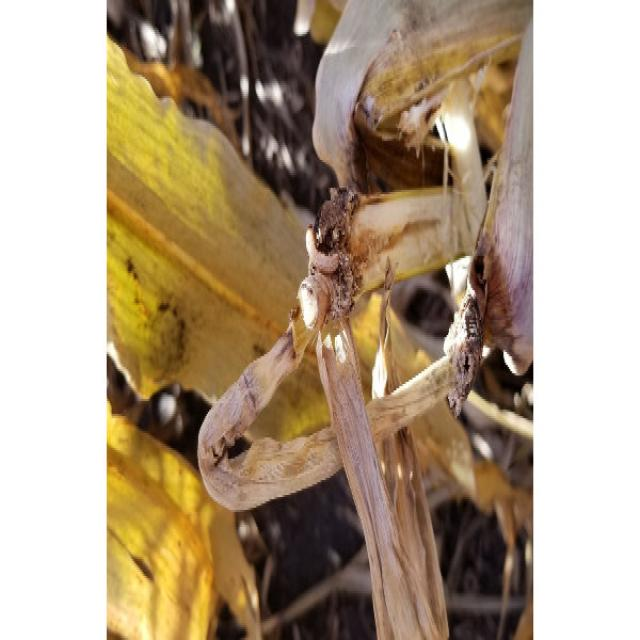cornborer-Larva-: (300, 218, 342, 276)
